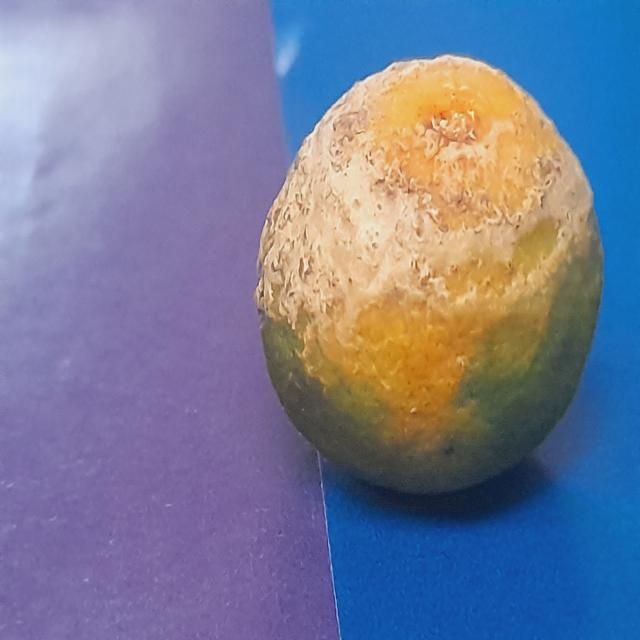thrips: (264, 49, 618, 518)
